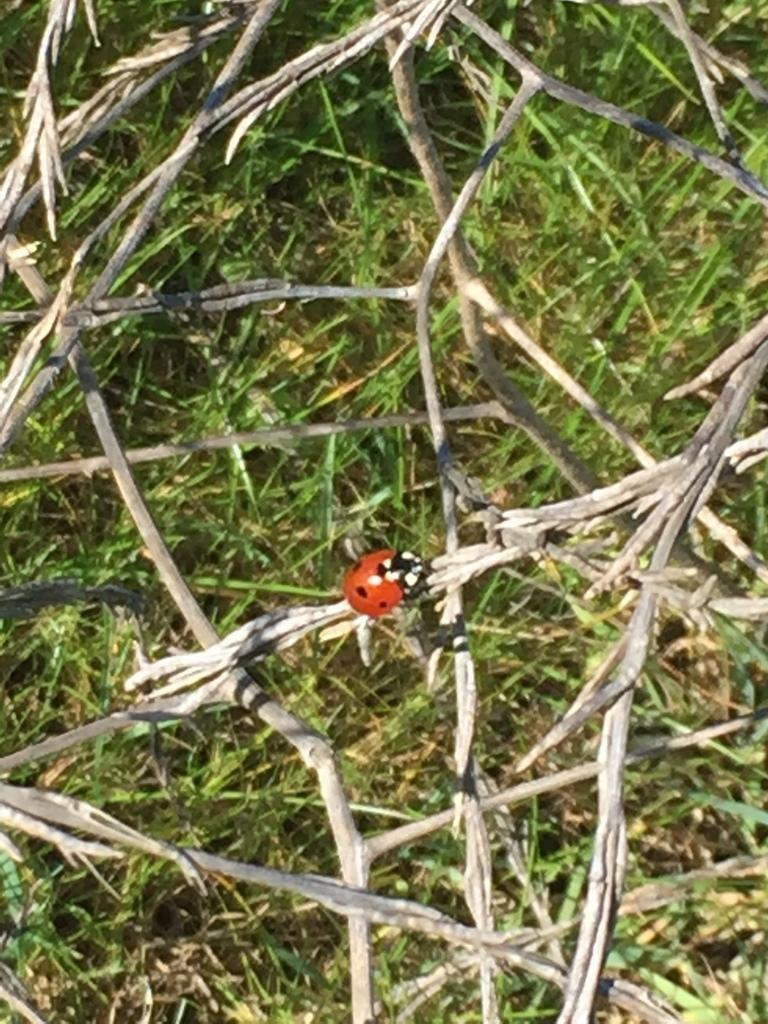ladybug: (342, 545, 430, 620)
